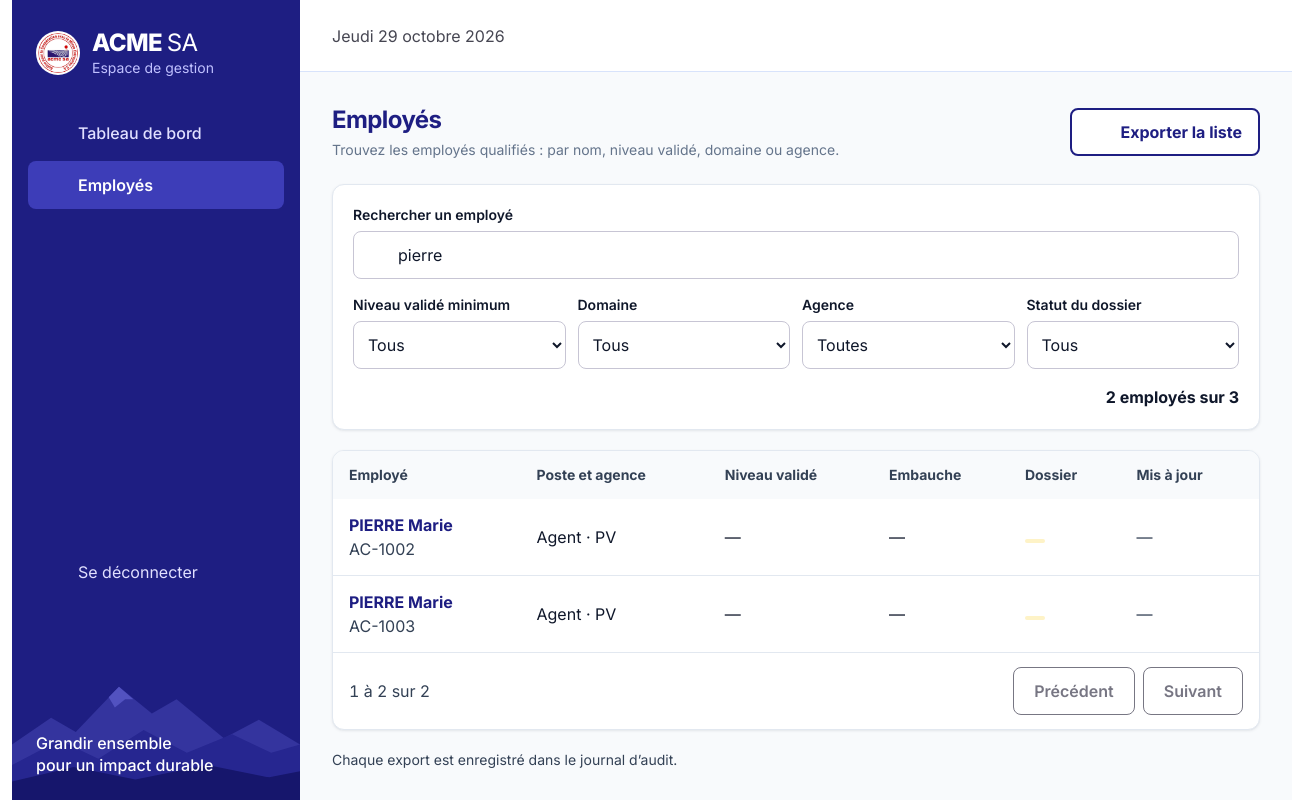
EmployeeSearch (US-18) › CA-08 : le bouton « effacer » du champ vide la recherche immédiatement
Expected: the text "2 employés sur 3" is shown, [1106,385,1239,409]
Expected: the search field labelled "Rechercher un employé" holds "pierre", [398,235,1182,275]
Click the button named "Effacer": click(1212, 255) [1190,233,1234,277]
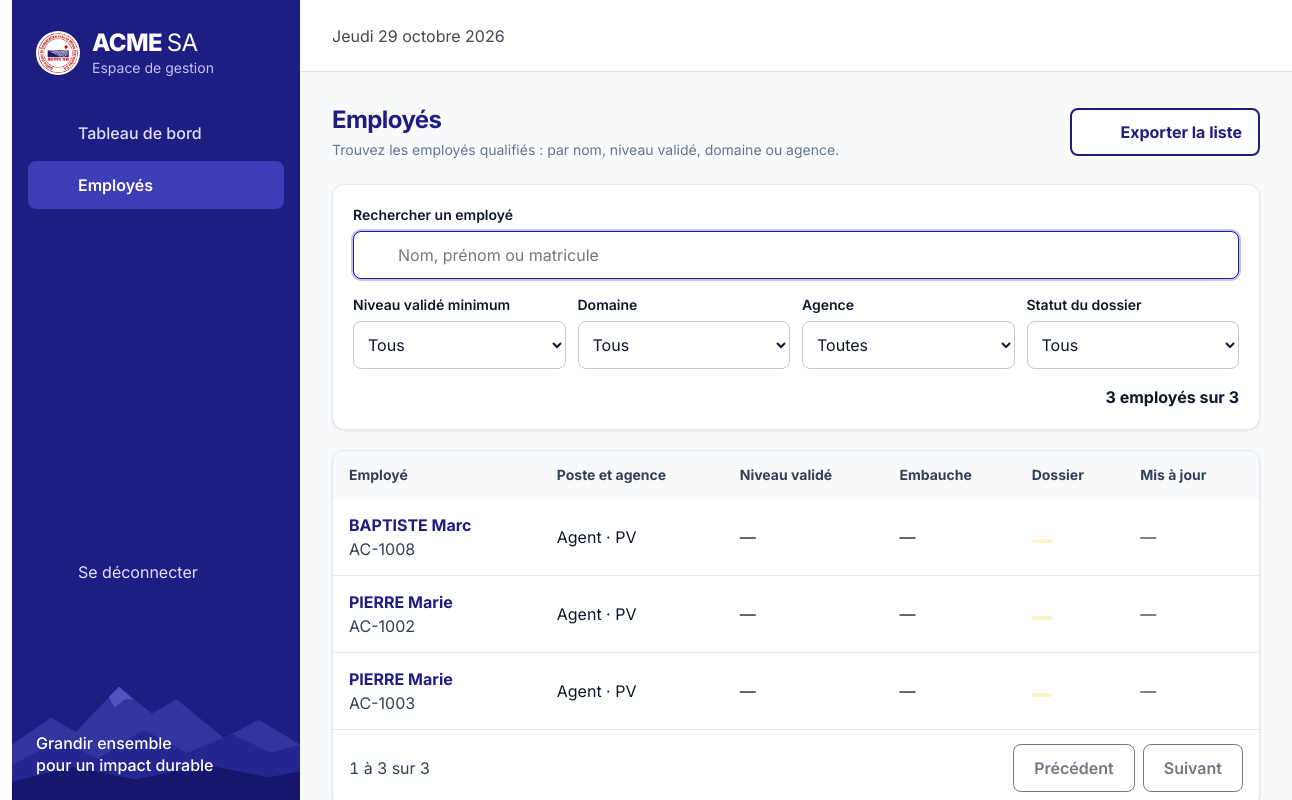
Now the text "3 employés sur 3" is shown, box [1106,385,1239,409]
Now the search field labelled "Rechercher un employé" is empty, box [398,235,1226,275]
